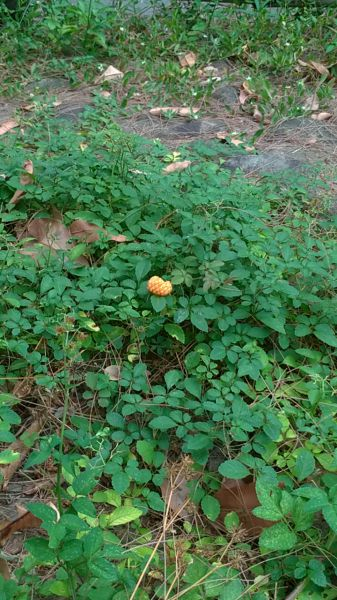eggs: (140, 271, 179, 303)
